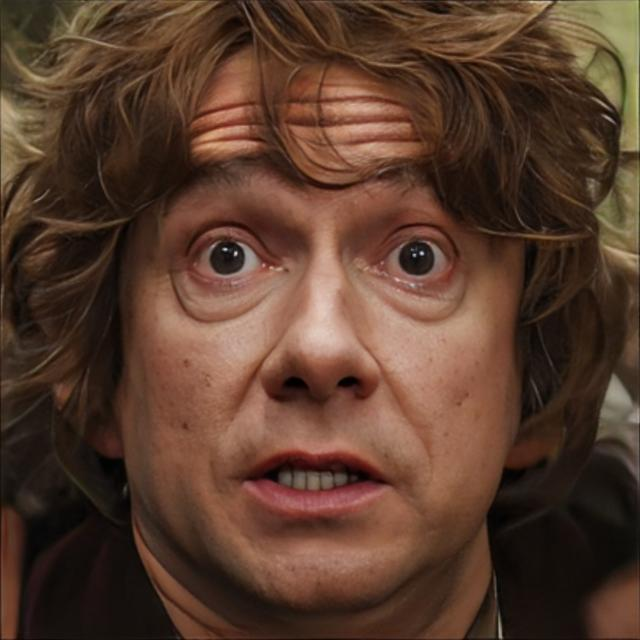fear: (125, 41, 525, 613)
